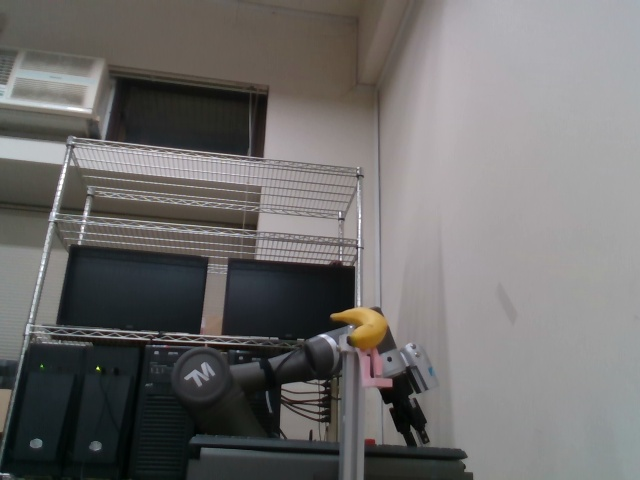banana: (325, 303, 391, 353)
